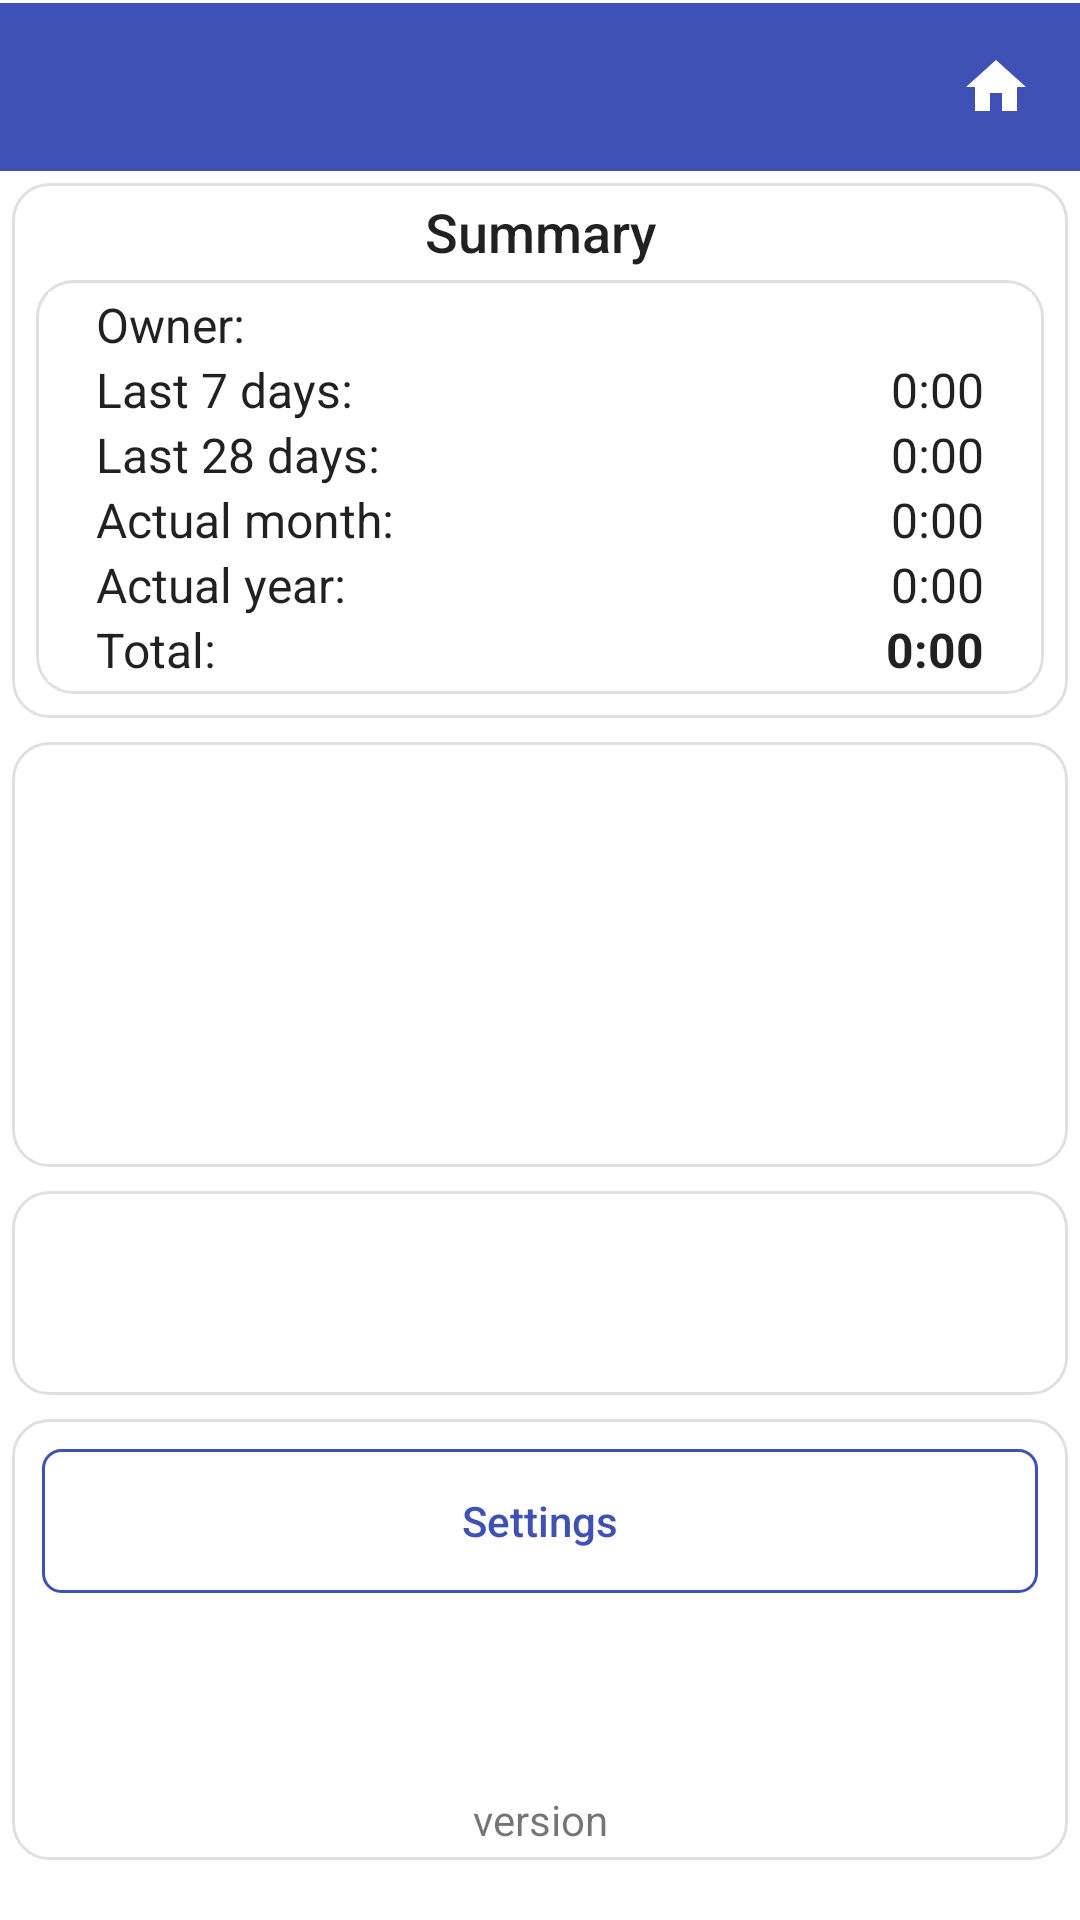

Locate icon controls on the screen. Image size 1080×1920, boxes as (x1, y1, x2, y2).
Home: (966, 60, 1026, 111)
